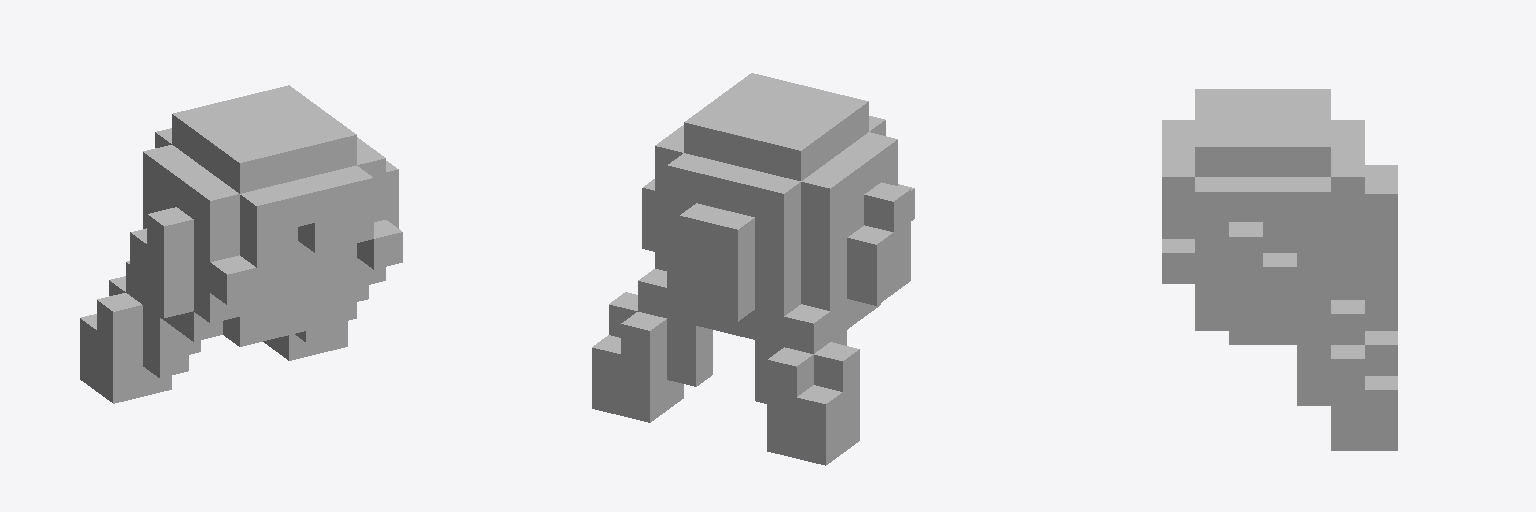
File: Head 8.obj
3 views of the same model, side by side, from view 1: azimuth 30°, elevation 25°; view 2: azimuth 150°, elevation 25°; view 3: azimuth 270°, elevation 25° (orthographic).
Bounding box in the file's own units: 8 × 9 × 7.